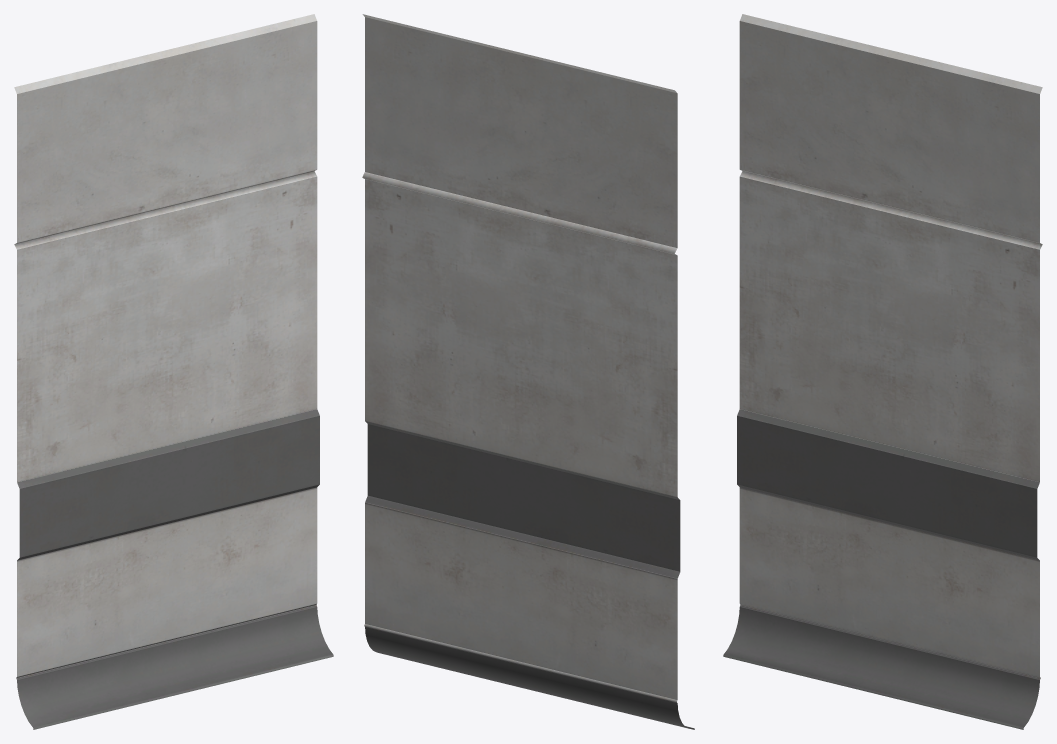
Rendered from hospital_corridor_default_small.dae.
3 views of the same model, side by side, from view 1: azimuth 30°, elevation 25°; view 2: azimuth 150°, elevation 25°; view 3: azimuth 330°, elevation 25° (orthographic). The views are drawn at different scales.
Parts seen in each view (by area): view 1: default_small; view 2: default_small; view 3: default_small.
Part boxes in pixels (left/top/right/bottom): default_small: left=14, top=14, right=333, bottom=729; default_small: left=362, top=14, right=694, bottom=729; default_small: left=723, top=14, right=1042, bottom=729.
Bounding box in the file's own units: 2 × 4 × 0.2227.
